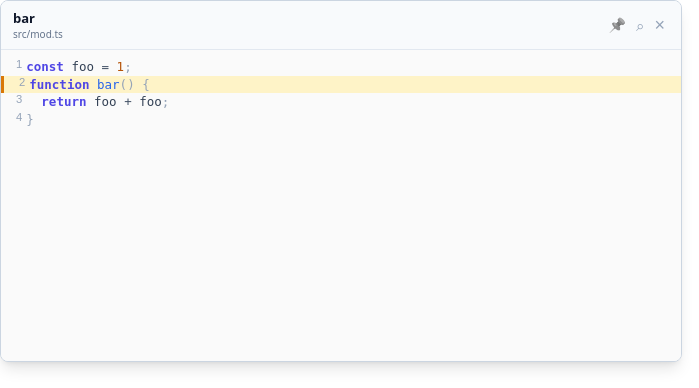
Test: find-in-frame › shows 'No results' for a query with no matches
Press f
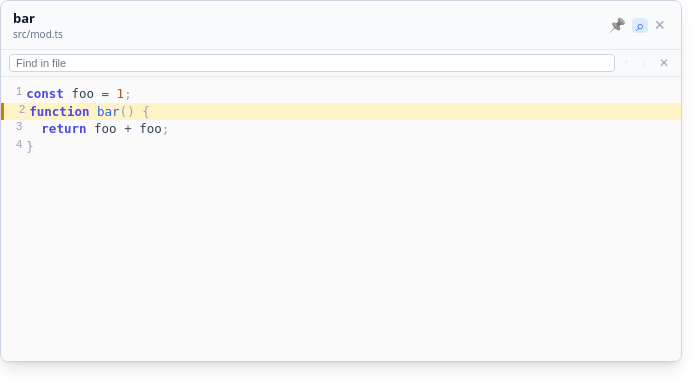
Type "zzz" into the field with class "symbol-widget__find-input" at point(312, 63), box x1=9 y1=54 x2=615 y2=72
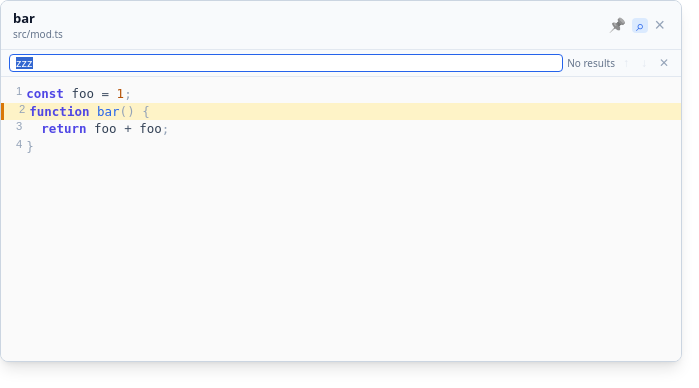
Expected: the text with class "symbol-widget__find-counter" reads "No results", x1=567 y1=56 x2=615 y2=70
